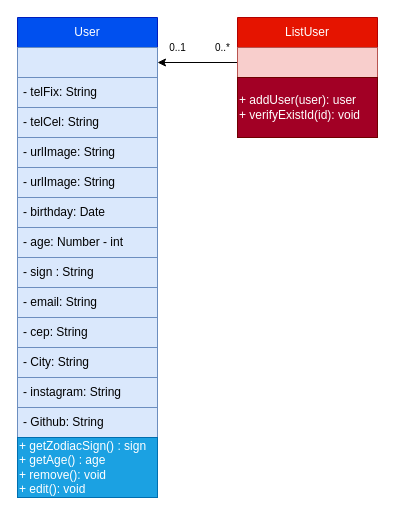
The diagram is 395 pixels wide and 515 high, and some of its shapes have lost their labels. The shapes that lost their labels are listed below. From the top down, each one's centre as x and y in pixels, then its label:
the point at 87,62: - name: String
the point at 307,62: - listUser: array
